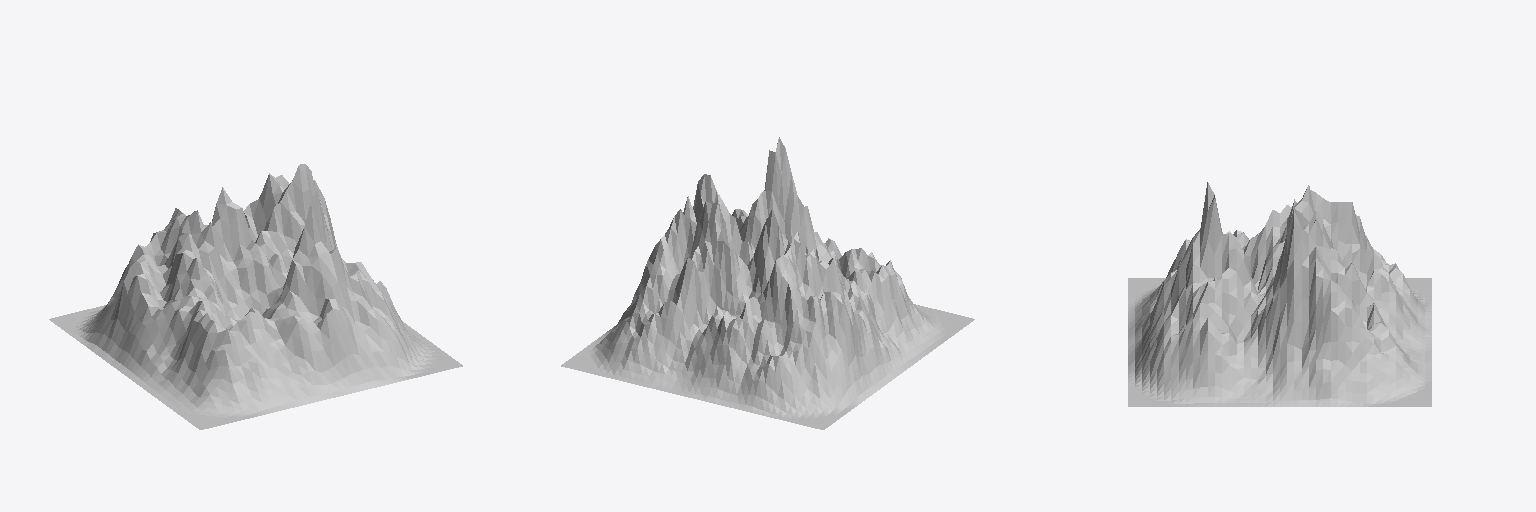
File: landscape.obj
3 renders of one model, left to right at view 1: azimuth 30°, elevation 25°; view 2: azimuth 150°, elevation 25°; view 3: azimuth 270°, elevation 25°, orthographic.
Parts seen in each view (by area): view 1: Landscape; view 2: Landscape; view 3: Landscape.
Part boxes in pixels (x1,y1,x2,y2): Landscape: (49,164,462,429); Landscape: (561,137,974,429); Landscape: (1128,182,1431,406).
Bounding box in the file's own units: 2 × 1.26 × 2.